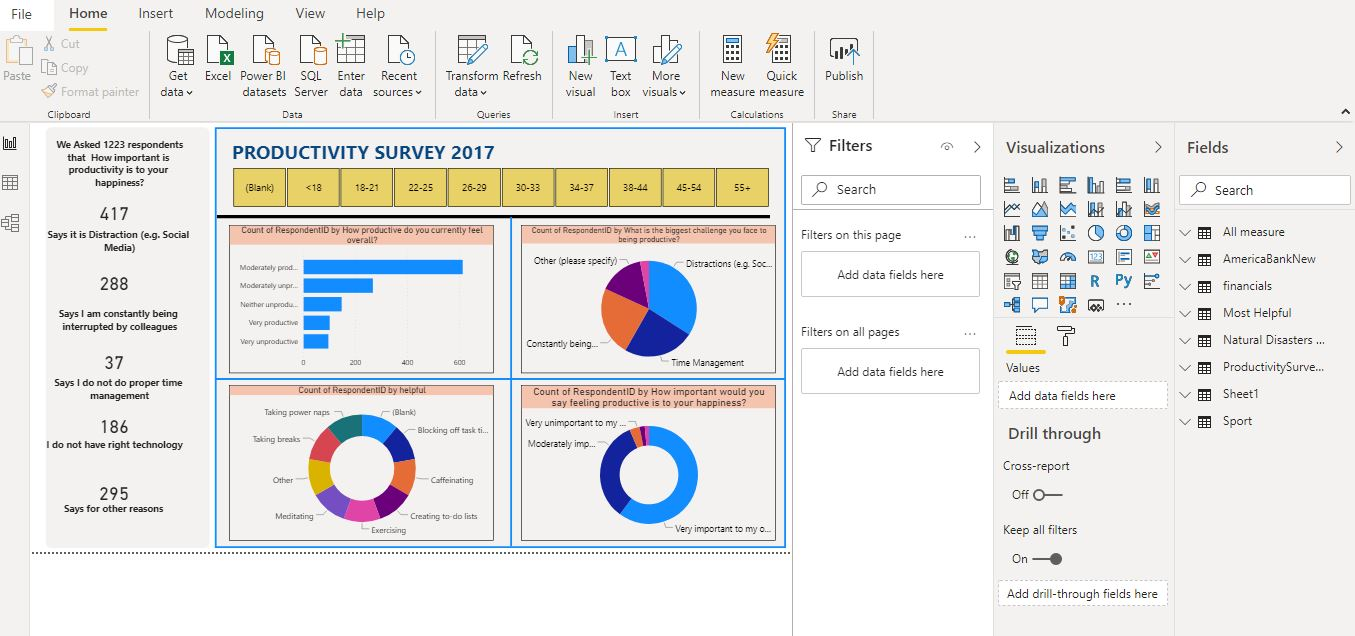

This screenshot's page, from the dashboard's own definition file:
{"tool":"powerbi","page":{"name":"PRODUCTIVITY SURVEY 2017","canvas":[1280,720],"ordinal":1},"visuals":[{"type":"basicShape","box":[23.5,0,280.5,720.6],"z":0},{"type":"basicShape","box":[300.7,0,979.3,720.6],"z":1000},{"type":"textbox","box":[23.5,20.2,253.6,102.5],"z":2000},{"type":"card","fields":{"Values":["All measure.Challange Distruption"]},"box":[90.7,109.2,100.8,80.6],"z":3000},{"type":"textbox","box":[23.5,171.3,253.6,55.4],"z":4000},{"type":"card","fields":{"Values":["All measure.Challange Time Management"]},"box":[90.7,579.5,100.8,80.6],"z":5000},{"type":"card","fields":{"Values":["All measure.Challange Others"]},"box":[90.7,467,100.8,80.6],"z":6000},{"type":"card","fields":{"Values":["All measure.Challange not having right technology"]},"box":[90.7,359.5,100.8,80.6],"z":7000},{"type":"card","fields":{"Values":["All measure.Challange Interruption"]},"box":[90.7,226.8,100.8,80.6],"z":8000},{"type":"textbox","box":[23.5,304,253.6,55.4],"z":9000},{"type":"textbox","box":[23.5,419.9,253.6,55.4],"z":10000},{"type":"textbox","box":[13.4,524.1,253.6,55.4],"z":11000},{"type":"textbox","box":[13.4,631.6,253.6,55.4],"z":12000},{"type":"textbox","box":[334.3,20.2,456.9,72.2],"z":13000},{"type":"slicer","fields":{"Values":["ProductivitySurvey2017.Age"]},"box":[315.8,68.9,949.1,79],"z":14000},{"type":"clusteredBarChart","fields":{"Category":["ProductivitySurvey2017.How productive do you currently feel overall?"],"Y":["CountNonNull(ProductivitySurvey2017.RespondentID)"]},"box":[334.3,171.3,445.1,248.6],"z":15000},{"type":"pieChart","fields":{"Series":["ProductivitySurvey2017.What is the biggest challenge you face to being productive?"],"Y":["CountNonNull(ProductivitySurvey2017.RespondentID)"]},"box":[824.8,171.3,428.3,248.6],"z":16000},{"type":"basicShape","box":[304,142.8,949.1,28.6],"z":17000},{"type":"donutChart","fields":{"Y":["CountNonNull(ProductivitySurvey2017.RespondentID)"],"Category":["Most Helpful.helpful"]},"box":[334.3,440.1,445.1,262],"z":18000},{"type":"donutChart","fields":{"Series":["ProductivitySurvey2017.How important would you say feeling productive is to your happiness?"],"Y":["CountNonNull(ProductivitySurvey2017.RespondentID)"]},"box":[824.8,440.1,428.3,262],"z":19000},{"type":"basicShape","box":[791.2,147.8,33.6,572.8],"z":20000},{"type":"basicShape","box":[300.7,280.5,979.3,299],"z":21000}]}

Visuals, with their boxes on the page's 1280x720 design canvas (x1, y1, x2, y2). These are canvas units, not pixel positions in the 1355x636 screenshot, which may show the page scaled, cropped or inside an application window:
basicShape: bbox=[24, 0, 304, 721]
basicShape: bbox=[301, 0, 1280, 721]
textbox: bbox=[24, 20, 277, 123]
card - All measure.Challange Distruption: bbox=[91, 109, 192, 190]
textbox: bbox=[24, 171, 277, 227]
card - All measure.Challange Time Management: bbox=[91, 580, 192, 660]
card - All measure.Challange Others: bbox=[91, 467, 192, 548]
card - All measure.Challange not having right technology: bbox=[91, 360, 192, 440]
card - All measure.Challange Interruption: bbox=[91, 227, 192, 307]
textbox: bbox=[24, 304, 277, 359]
textbox: bbox=[24, 420, 277, 475]
textbox: bbox=[13, 524, 267, 580]
textbox: bbox=[13, 632, 267, 687]
textbox: bbox=[334, 20, 791, 92]
slicer - ProductivitySurvey2017.Age: bbox=[316, 69, 1265, 148]
clusteredBarChart - ProductivitySurvey2017.How productive do you currently feel overall? x CountNonNull(ProductivitySurvey2017.RespondentID): bbox=[334, 171, 779, 420]
pieChart - ProductivitySurvey2017.What is the biggest challenge you face to being productive? x CountNonNull(ProductivitySurvey2017.RespondentID): bbox=[825, 171, 1253, 420]
basicShape: bbox=[304, 143, 1253, 171]
donutChart - CountNonNull(ProductivitySurvey2017.RespondentID) x Most Helpful.helpful: bbox=[334, 440, 779, 702]
donutChart - ProductivitySurvey2017.How important would you say feeling productive is to your happiness? x CountNonNull(ProductivitySurvey2017.RespondentID): bbox=[825, 440, 1253, 702]
basicShape: bbox=[791, 148, 825, 721]
basicShape: bbox=[301, 280, 1280, 580]
